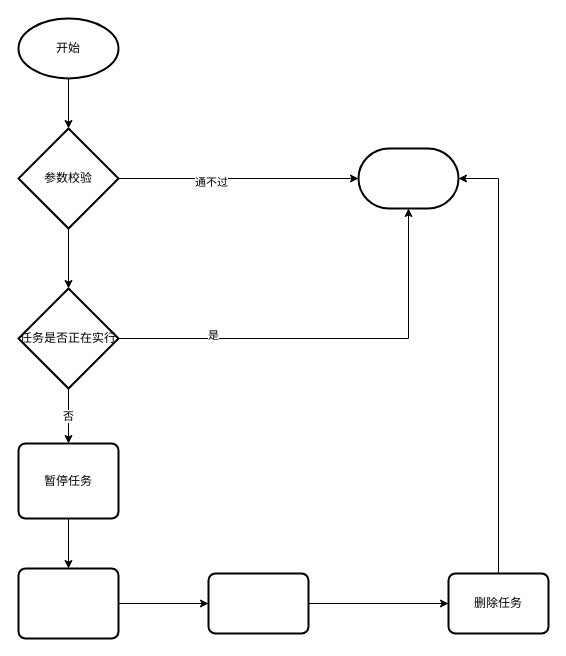
Some shapes in this 566 by 656 pixel diagram are drawn without their labels. The shapes that lost their labels are listed below. From the top down, each one's centre as x and y in pixels, then its label:
At point 408,178: "结束".
At point 68,603: "删除基本信息".
At point 258,603: "删除映射信息".
